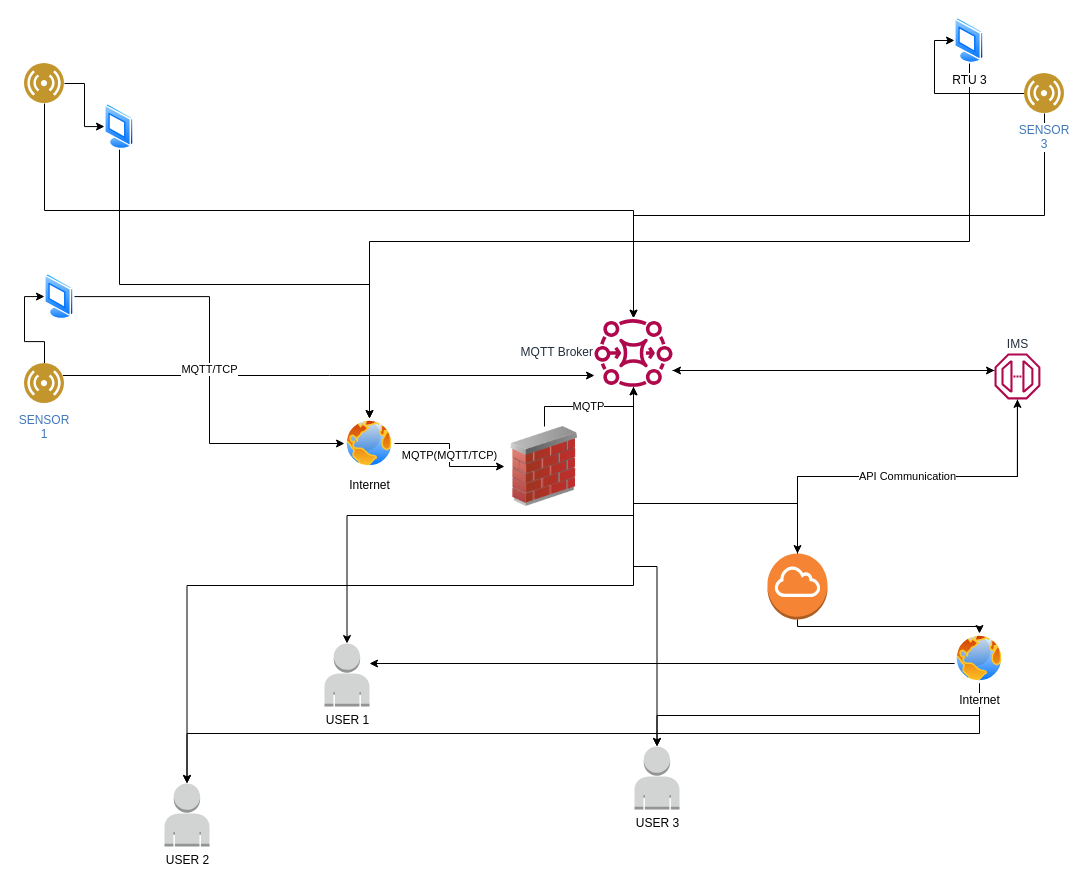
Image size: 1087x885. Some labels were removed from this diagram. The shapes that lost their labels are listed below. From the top down, each one's centre as x and y in pixels, then its label:
At point (44, 83): "SENSOR 2".
At point (119, 126): "RTU 2".
At point (59, 296): "RTU 1".
At point (544, 466): "firewall".
At point (797, 586): "Our Server(CONNECTED)".
